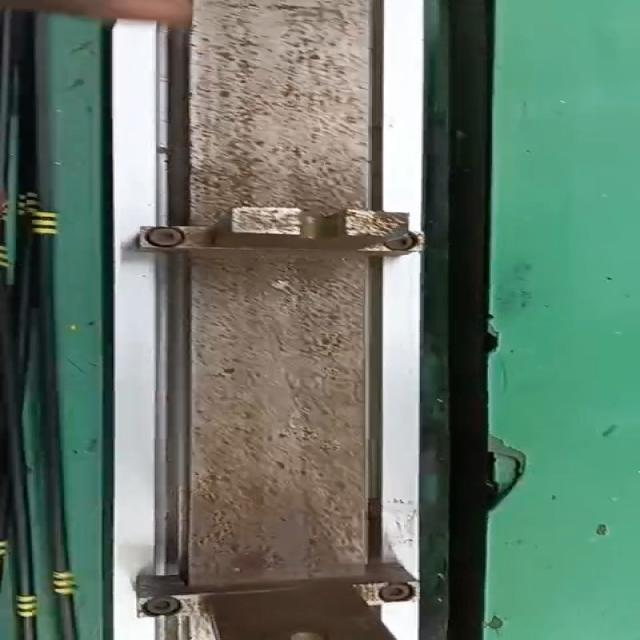yellow: (32, 210, 61, 235), (47, 572, 76, 594), (13, 595, 35, 617)
